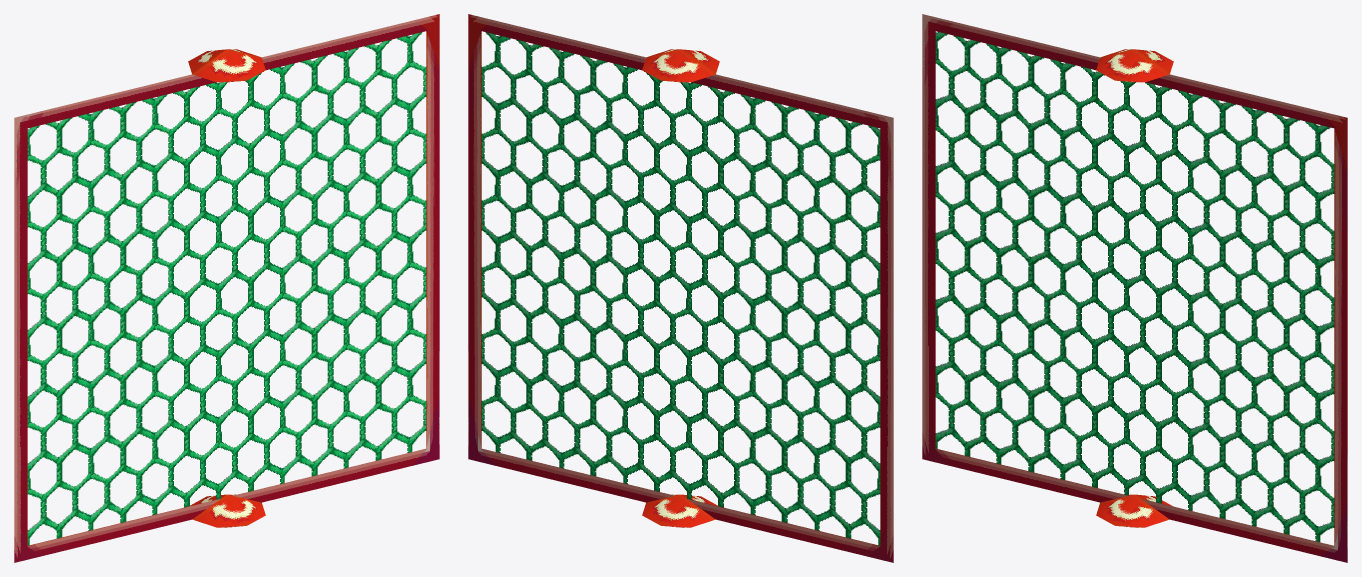
Rendered from fenceinnergreen.dae.
3 views of the same model, side by side, from view 1: azimuth 30°, elevation 25°; view 2: azimuth 150°, elevation 25°; view 3: azimuth 330°, elevation 25° (orthographic).
Visible parts, largest first — view 1: n1b1, n0b0; view 2: n1b1, n0b0; view 3: n1b1, n0b0.
Boxes of the visible parts, x1,y1,x2,y2 form: n1b1: (27, 32, 426, 545); n0b0: (14, 14, 439, 562); n1b1: (481, 32, 880, 545); n0b0: (468, 14, 893, 562); n1b1: (935, 32, 1334, 542); n0b0: (922, 14, 1347, 562).
Bounding box in the file's own units: 400 × 430 × 65.55.
